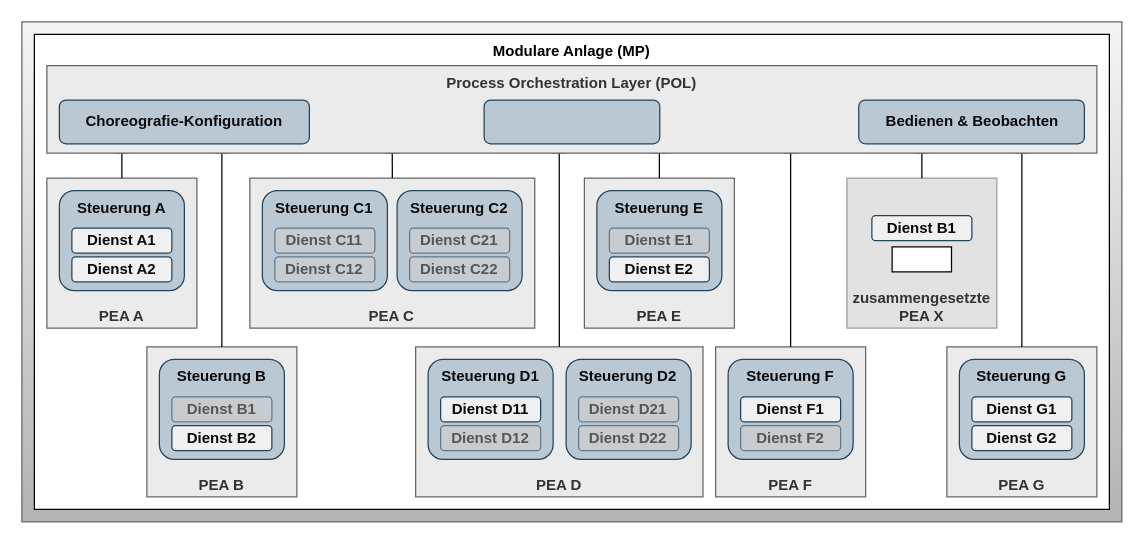
Image size: 1144x544. Some labels were removed from this diagram. Here are the shapes that lost their labels. From the top down, the centre of each, then its label:
At (571,121): "Orchestrierung".
At (921,259): "LEADER".
